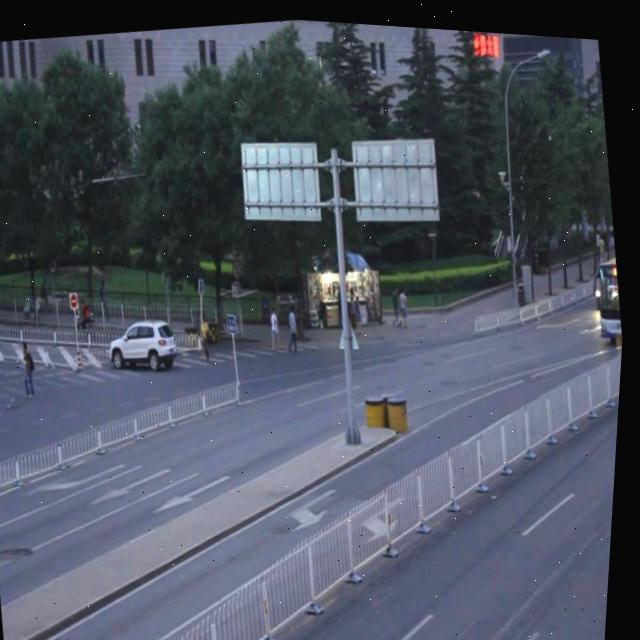car: (109, 309, 185, 374)
van: (594, 241, 630, 341)
